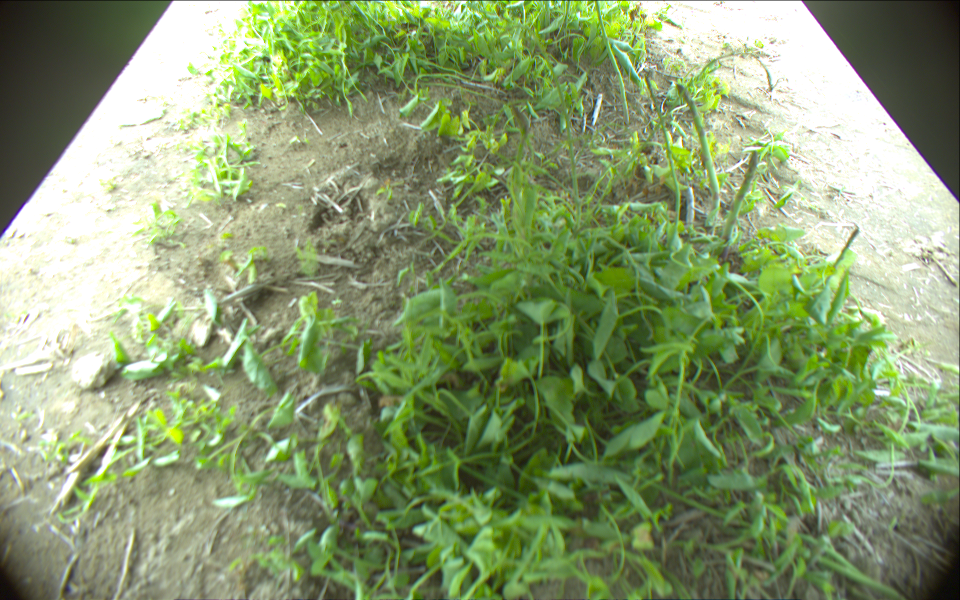aspa: (491, 22, 580, 227), (676, 82, 721, 224), (645, 69, 682, 225), (719, 148, 761, 258), (593, 1, 631, 122), (510, 103, 531, 228), (820, 228, 858, 295)
